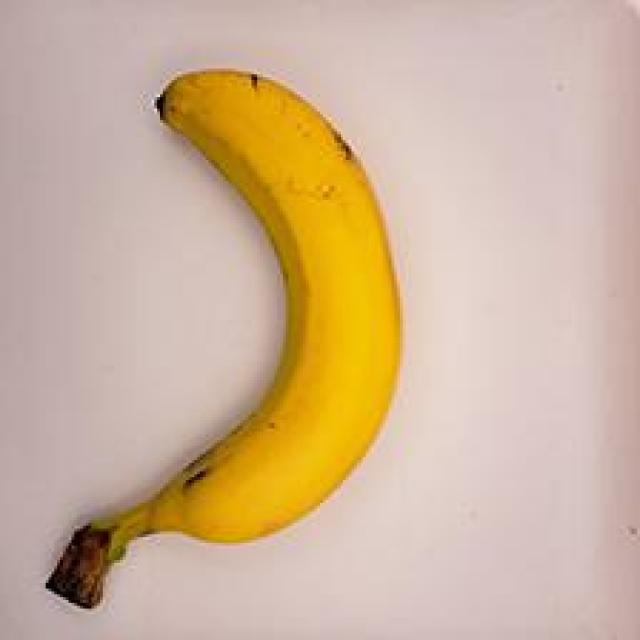Ripe: (42, 52, 436, 617)
